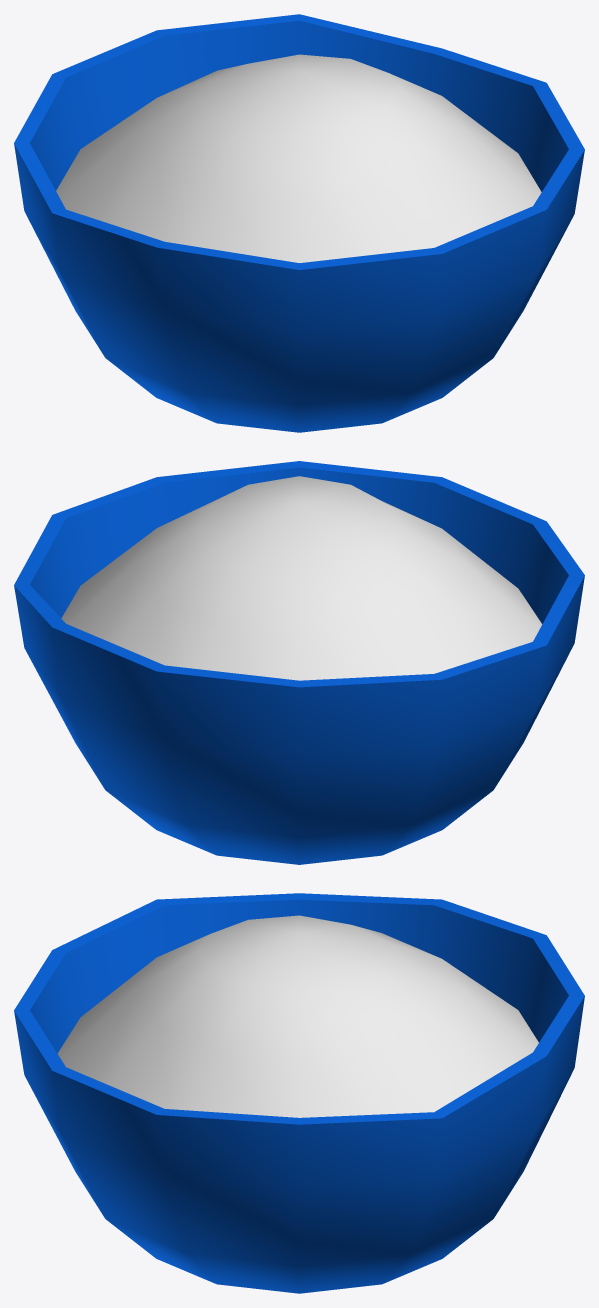
The model's file is rice.fbx.
3 renders of one model, top to bottom at view 1: azimuth 30°, elevation 25°; view 2: azimuth 150°, elevation 25°; view 3: azimuth 270°, elevation 25°, orthographic.
Visible parts, largest first — view 1: Rice; view 2: Rice; view 3: Rice.
Boxes of the visible parts, bbox=[...] form: Rice: bbox=[14, 14, 584, 432]; Rice: bbox=[14, 461, 584, 864]; Rice: bbox=[14, 893, 584, 1293].
Bounding box in the file's own units: 104 × 58.23 × 104.
